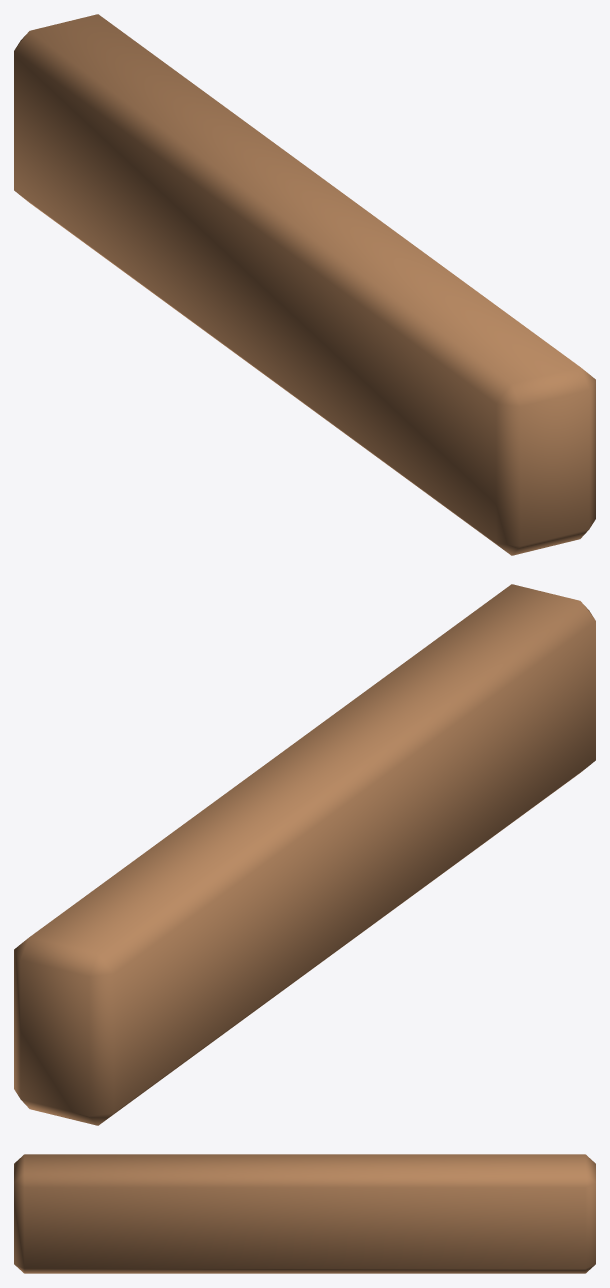
The model's file is SM_Plank_2.fbx.
The picture shows the model from 3 angles, top to bottom: view 1: azimuth 30°, elevation 25°; view 2: azimuth 150°, elevation 25°; view 3: azimuth 270°, elevation 25°; orthographic projection. The views are drawn at different scales.
Parts seen in each view (by area): view 1: SM_Plank_2; view 2: SM_Plank_2; view 3: SM_Plank_2.
Part boxes in pixels (left/top/right/bottom): SM_Plank_2: left=14, top=14, right=595, bottom=555; SM_Plank_2: left=14, top=584, right=595, bottom=1125; SM_Plank_2: left=14, top=1154, right=595, bottom=1273.
Size of the model in its own units: 0.2546 by 0.4194 by 2.21.
